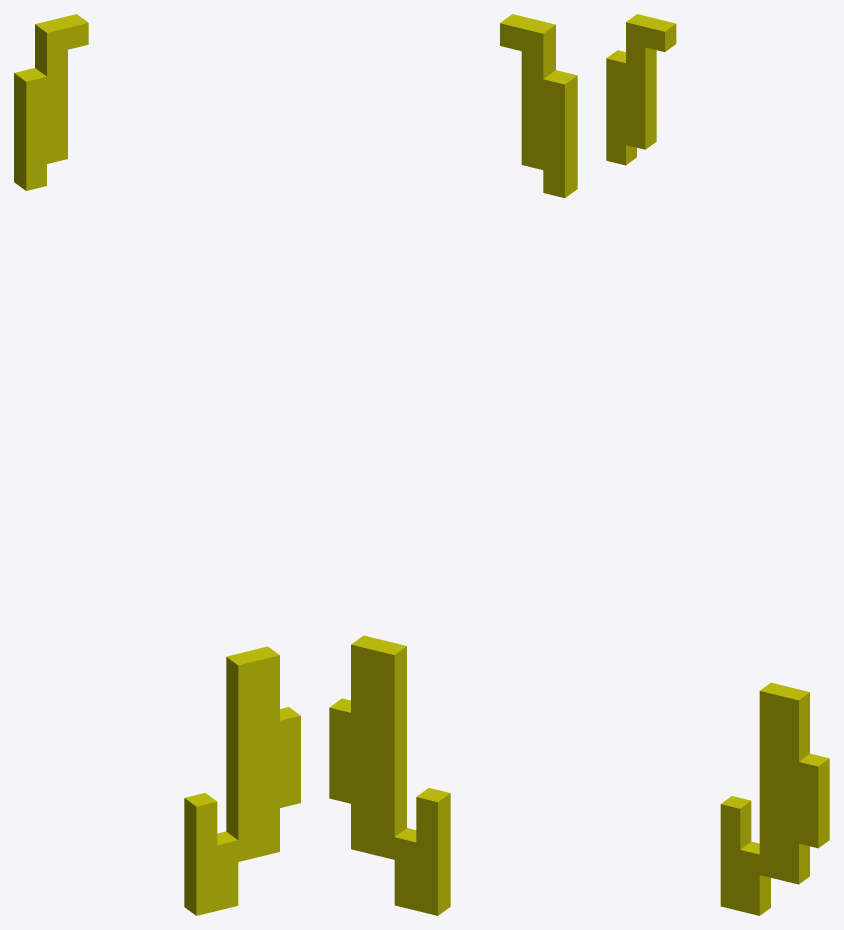
The model's file is goodnight-moon-18-fire2alt.obj.
3 views of the same model, side by side, from view 1: azimuth 30°, elevation 25°; view 2: azimuth 150°, elevation 25°; view 3: azimuth 330°, elevation 25° (orthographic). The views are drawn at different scales.
Parts seen in each view (by area): view 1: fire2alt; view 2: fire2alt; view 3: fire2alt.
Boxes of the visible parts, box(x1,y1,x2,y2) form: fire2alt: box(14, 14, 300, 915); fire2alt: box(329, 14, 577, 915); fire2alt: box(606, 14, 829, 915).
Bounding box in the file's own units: 1.2 × 4.1 × 0.3.
Materials: 1 (1 with a texture image).
